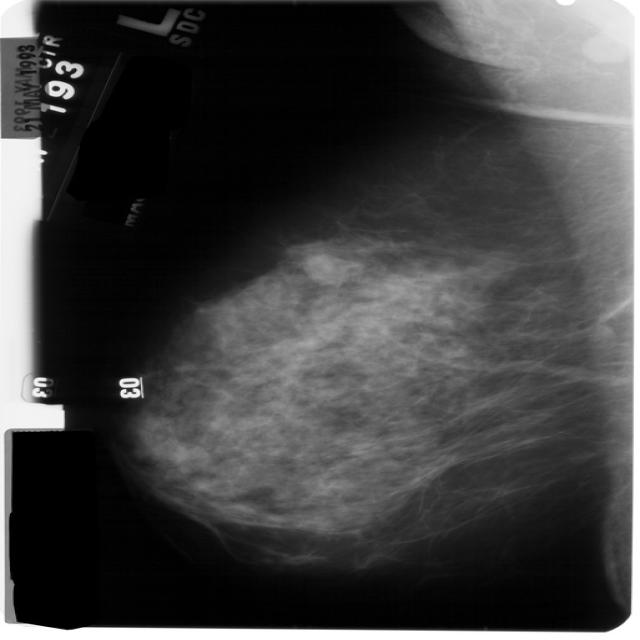tumour: (302, 253, 362, 285)
